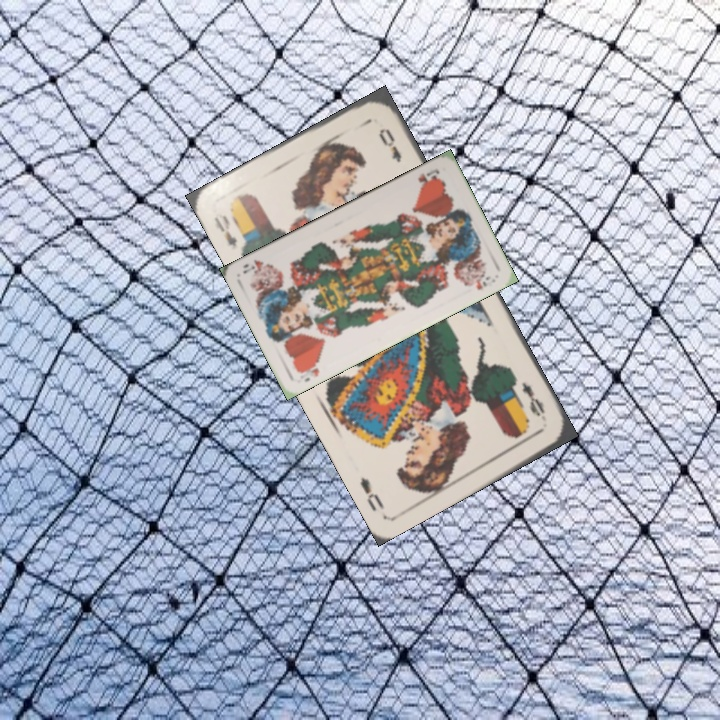EO: (517, 378, 550, 424), (210, 211, 240, 253)
HO: (293, 357, 322, 384), (414, 164, 442, 190)
